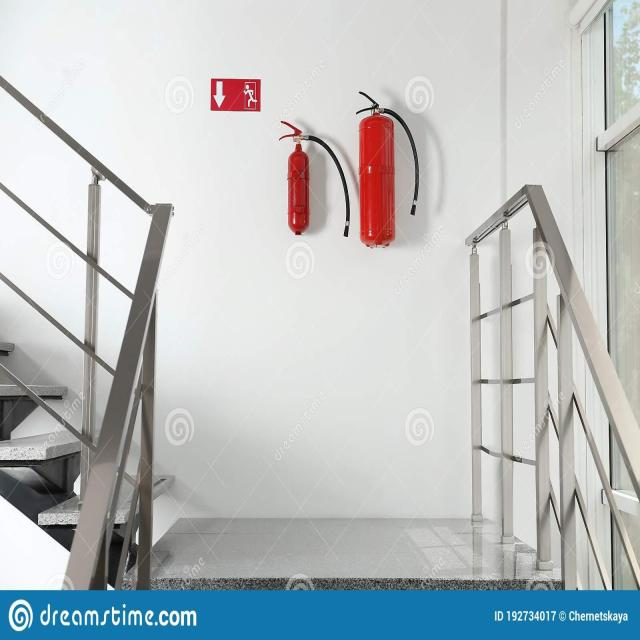fire_extinguisher: (352, 86, 422, 252), (275, 116, 352, 248)
